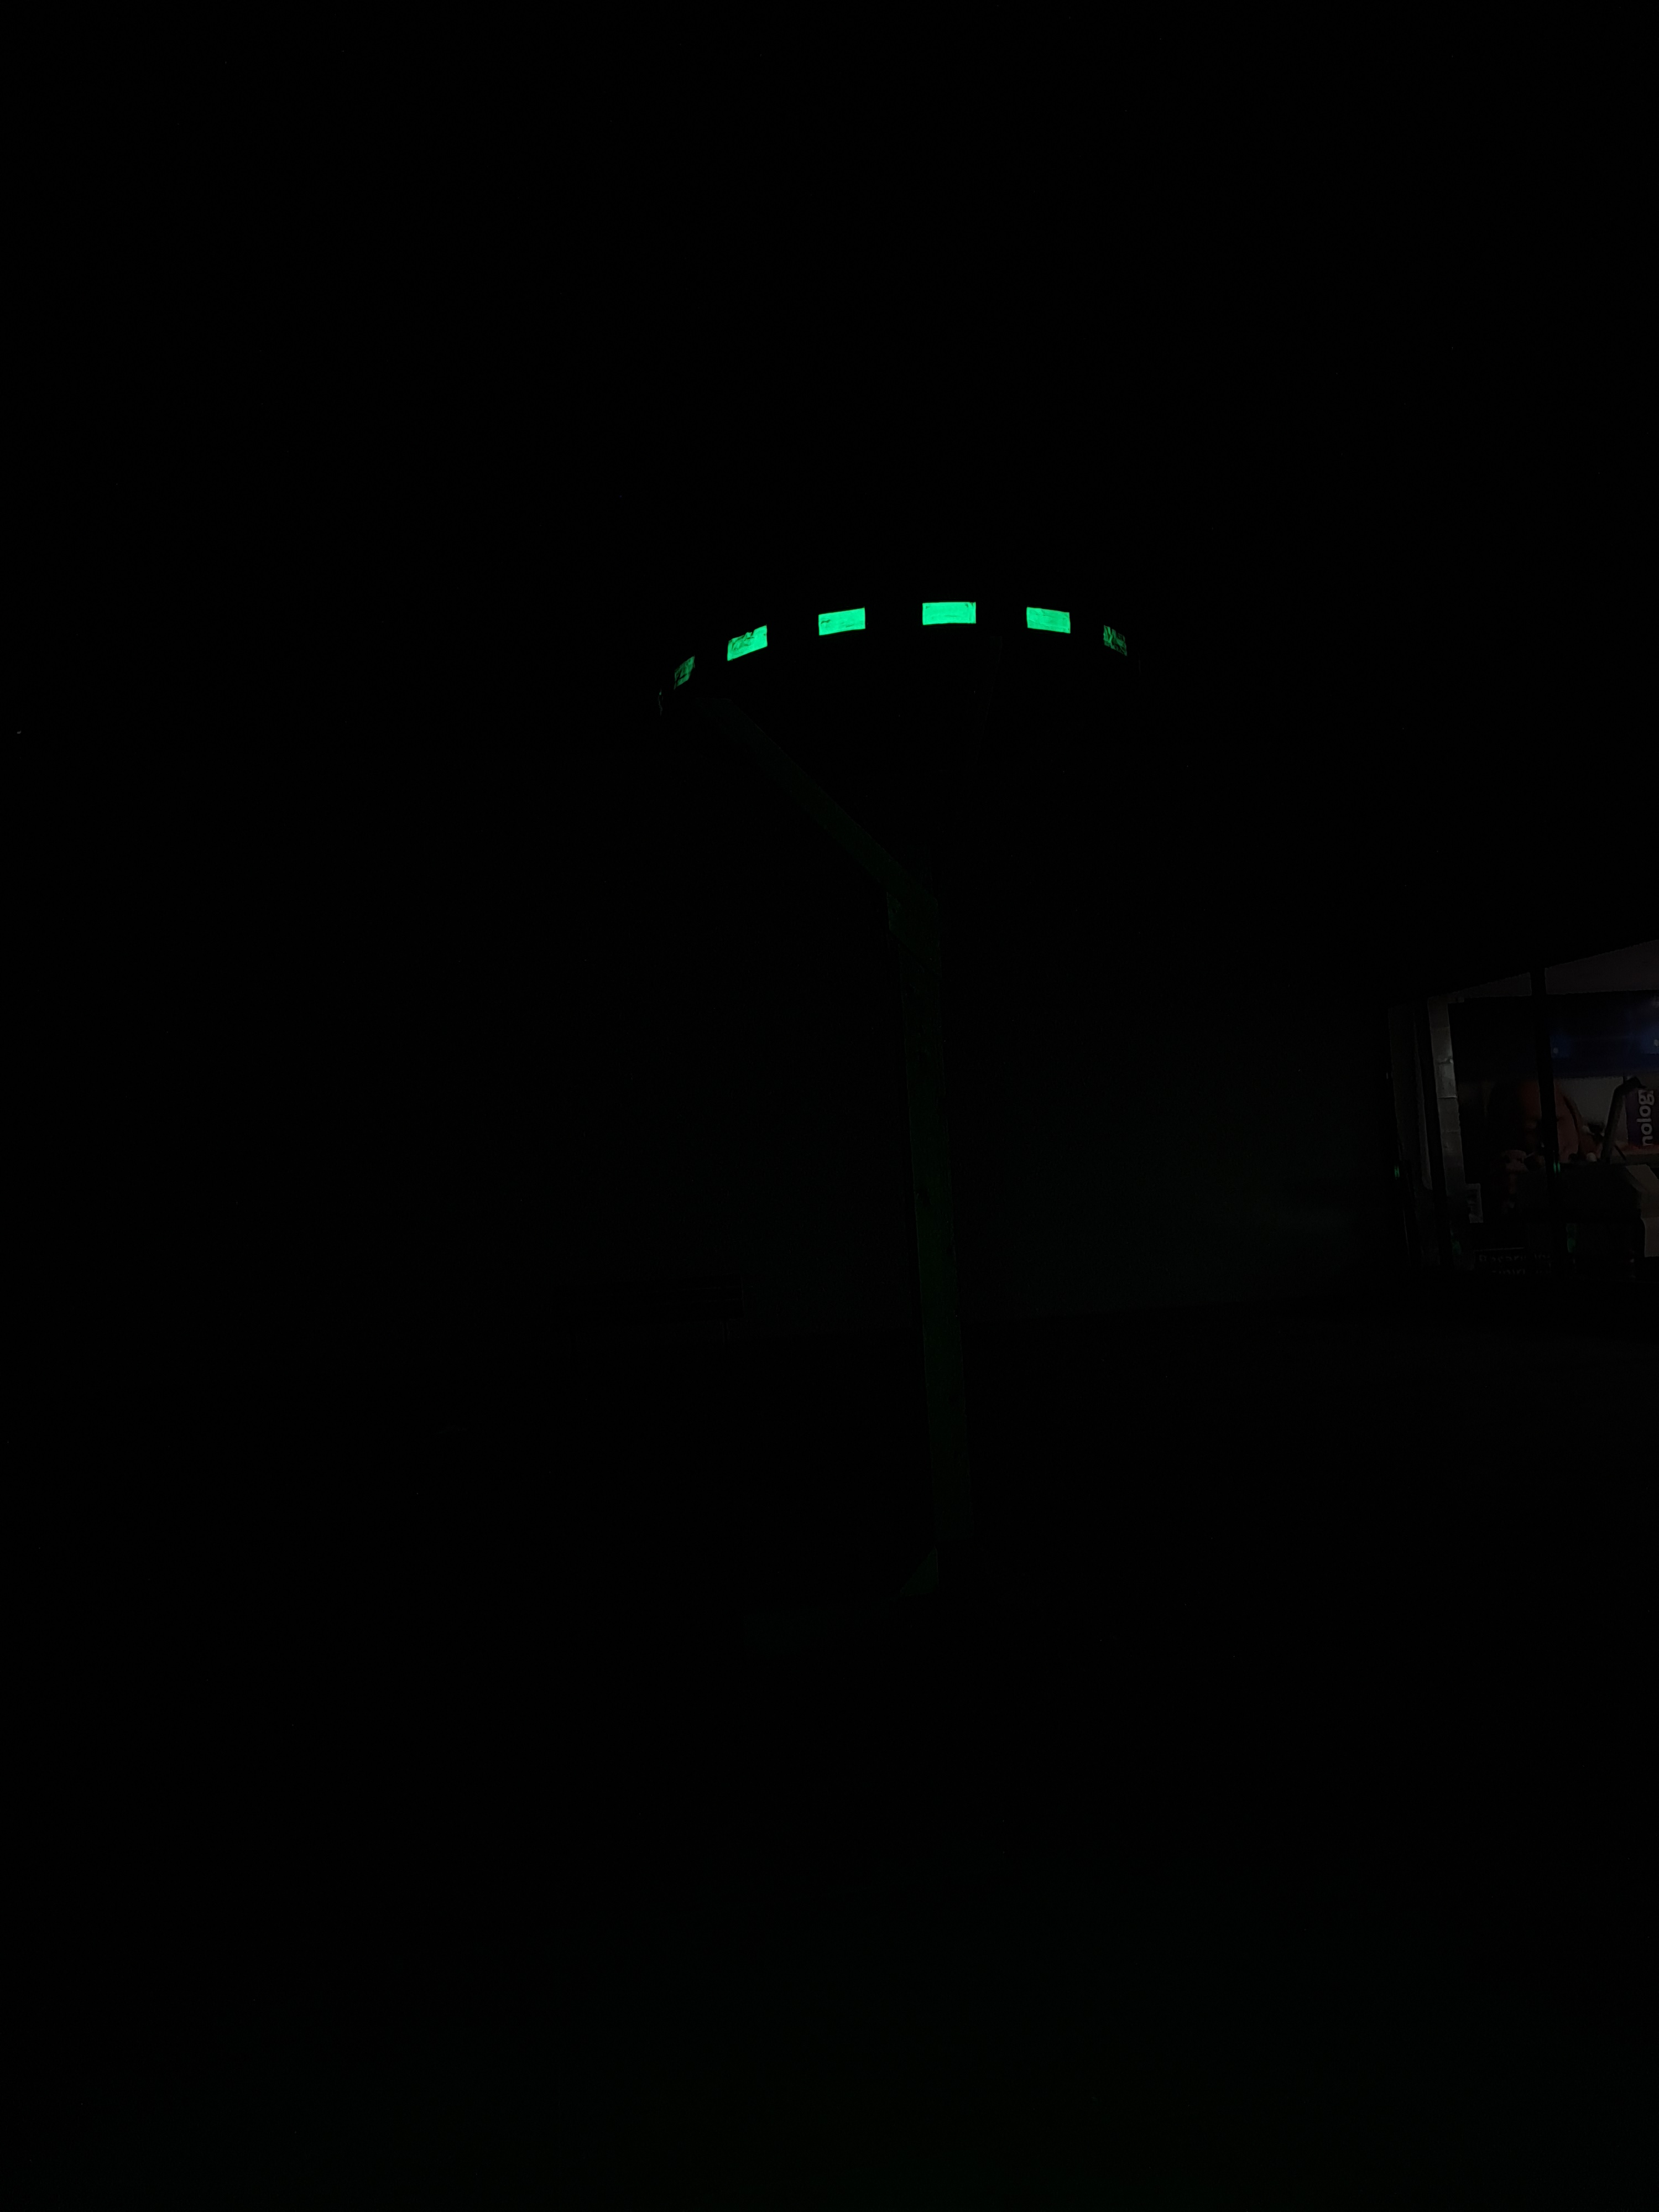hoop: (615, 583, 1150, 698)
